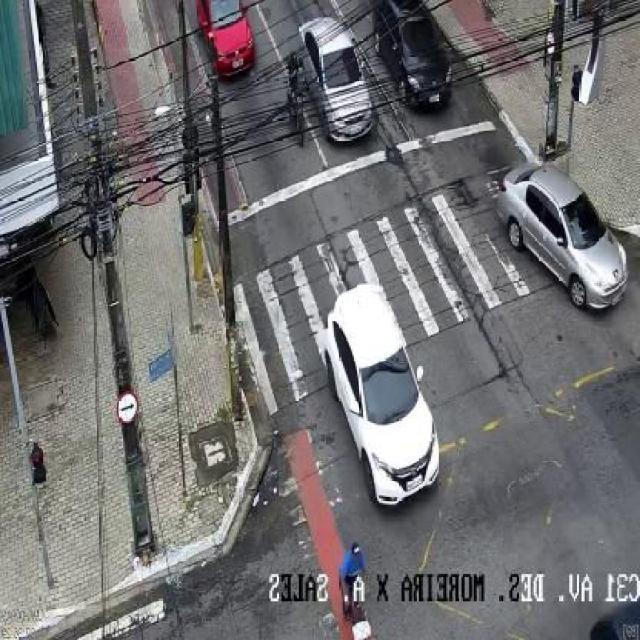Car: (317, 285, 438, 515), (498, 160, 628, 311), (298, 11, 374, 146), (372, 0, 454, 109), (193, 0, 253, 73)
